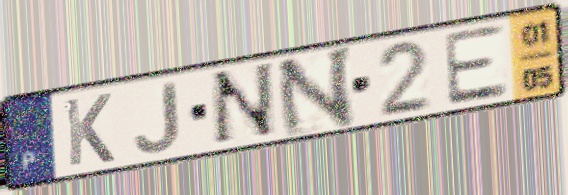2: (374, 38, 433, 120)
E: (440, 21, 512, 109)
J: (131, 79, 183, 156)
K: (61, 91, 117, 170)
N: (272, 42, 357, 141), (209, 59, 281, 150)
